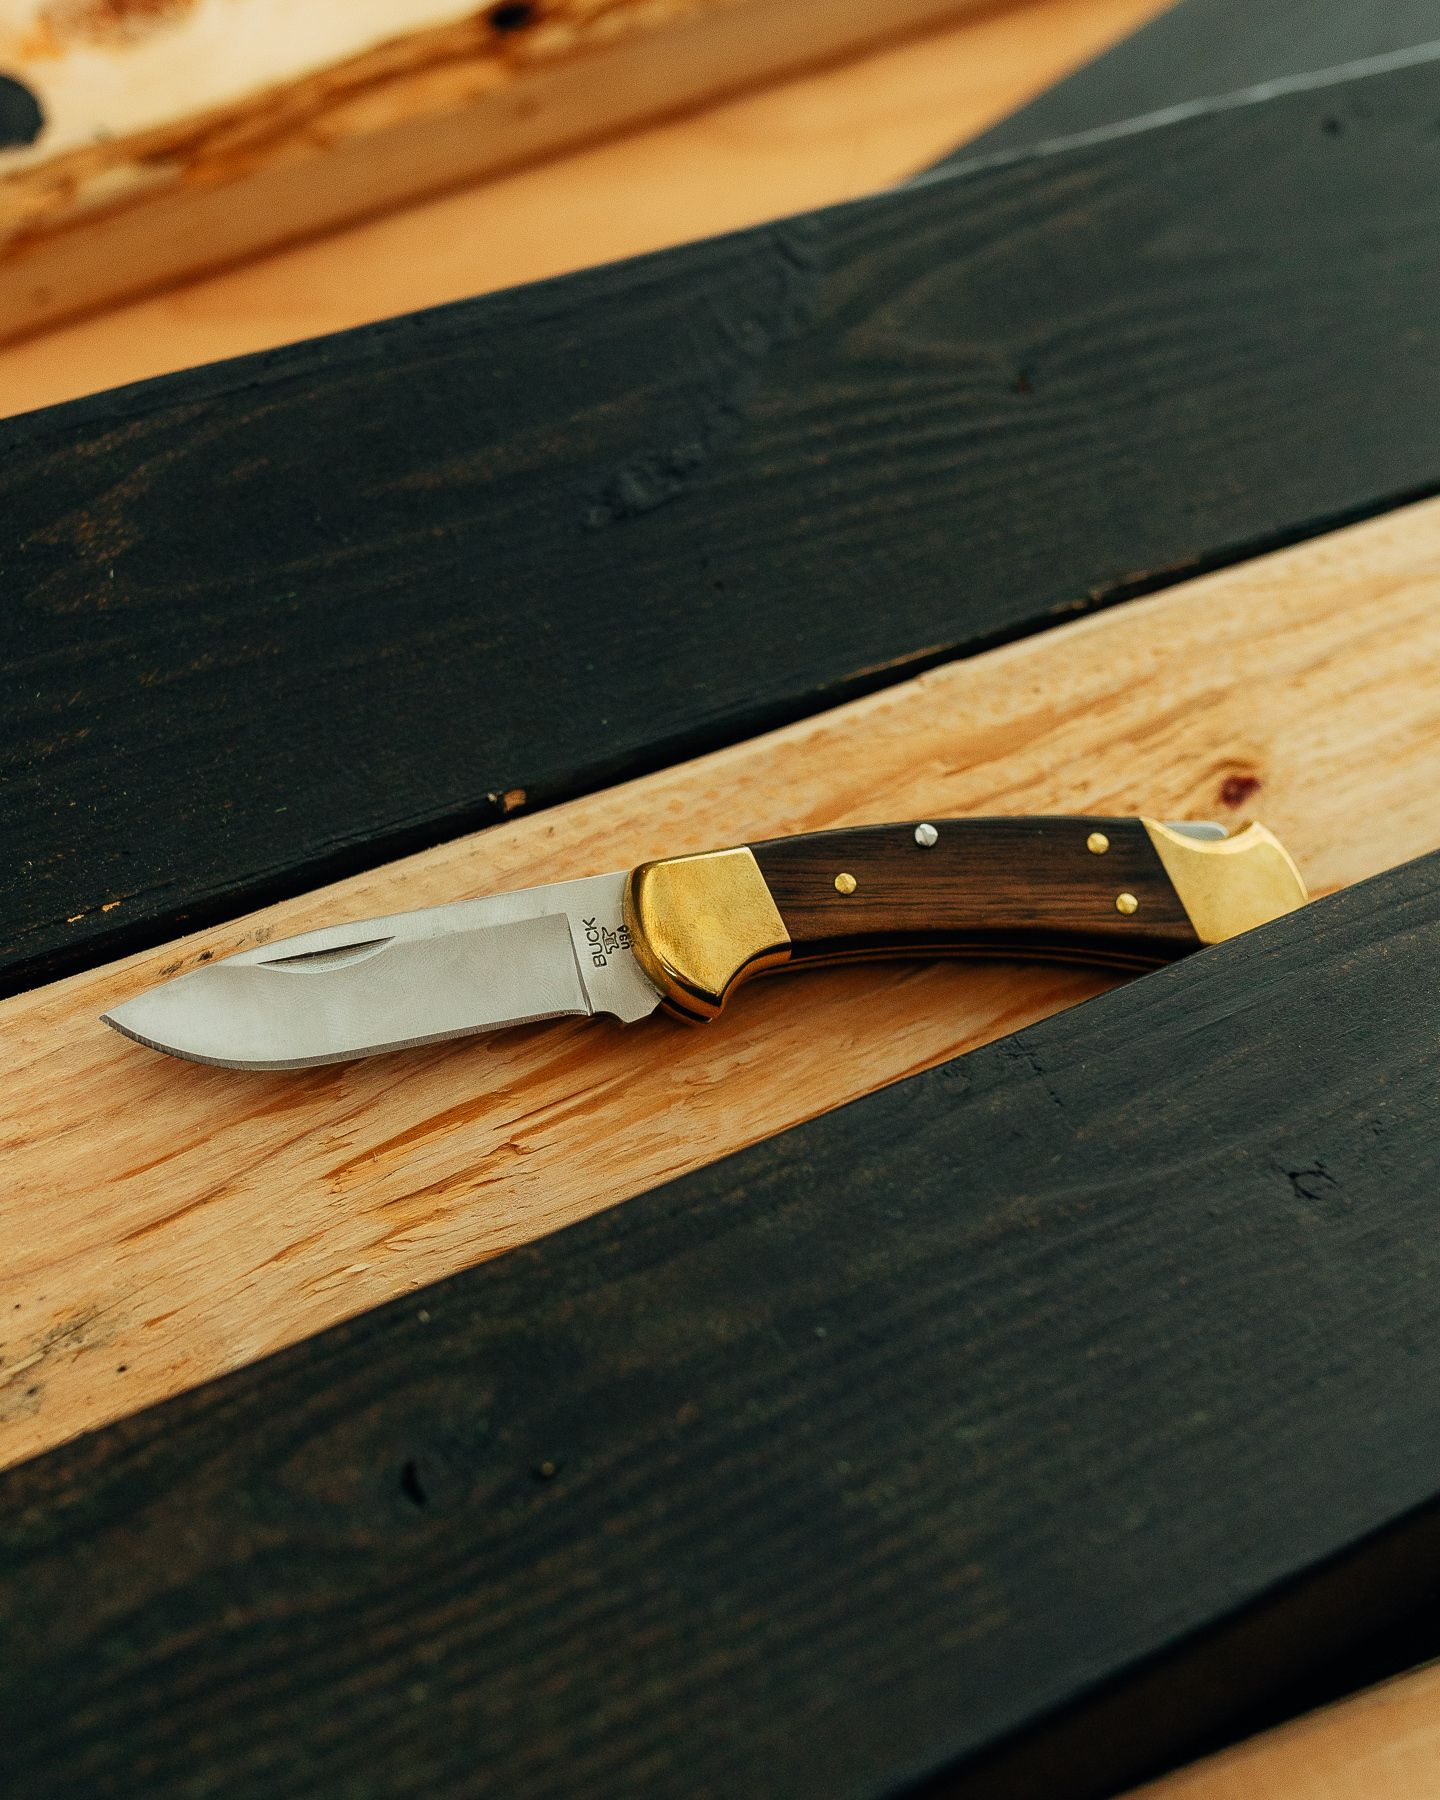knife: (85, 805, 1328, 1079)
